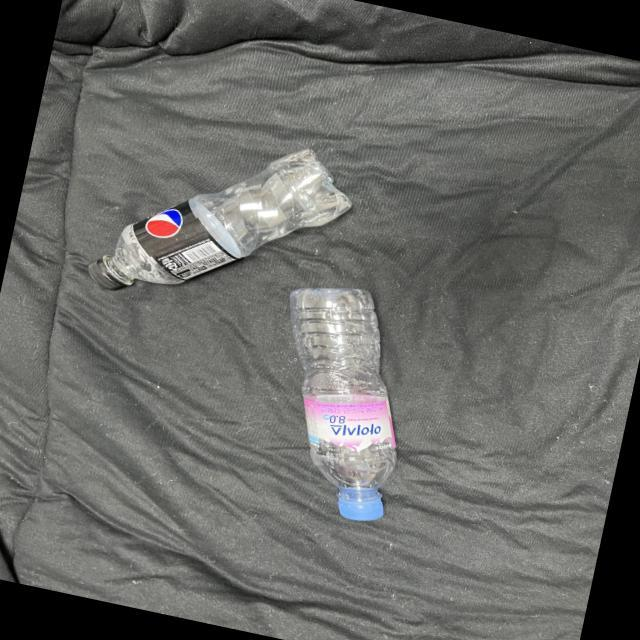good: (66, 136, 371, 313), (279, 278, 409, 540)
